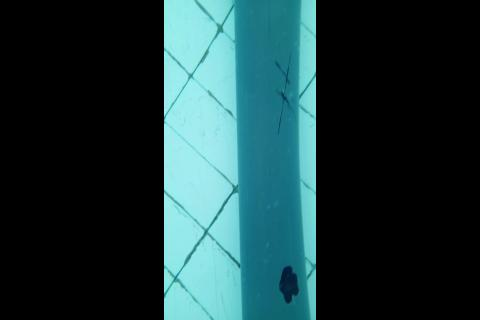kebocoran: (277, 263, 299, 305)
keretakan: (275, 54, 292, 134)
